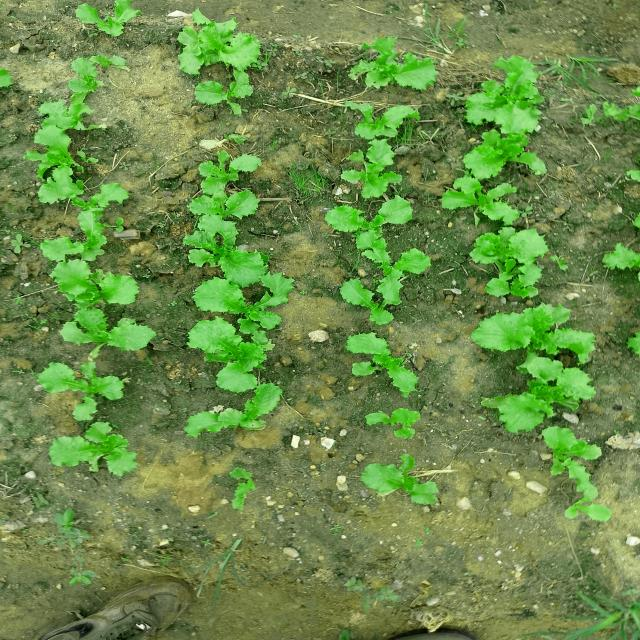Lettuce: (488, 354, 614, 435), (462, 292, 589, 366), (462, 42, 544, 135), (336, 314, 422, 397), (188, 315, 273, 395), (336, 32, 454, 89), (474, 214, 546, 301), (460, 125, 557, 187), (357, 448, 443, 517), (44, 360, 136, 424), (54, 422, 146, 483), (180, 4, 260, 74), (184, 274, 300, 322), (313, 192, 413, 245), (332, 133, 417, 195), (51, 262, 149, 315), (64, 301, 155, 357), (185, 385, 277, 440), (325, 266, 408, 324), (441, 173, 524, 227), (335, 97, 434, 142), (541, 424, 606, 488), (189, 177, 257, 238), (588, 64, 640, 137), (70, 0, 148, 47), (186, 233, 269, 277), (52, 203, 117, 258), (197, 148, 266, 196), (359, 244, 435, 283), (191, 76, 258, 118), (49, 55, 128, 89), (17, 167, 90, 203), (24, 94, 101, 128), (206, 467, 264, 512), (363, 406, 427, 444), (611, 121, 640, 201), (608, 210, 640, 278), (25, 132, 86, 166), (621, 316, 640, 366), (0, 62, 16, 96)
